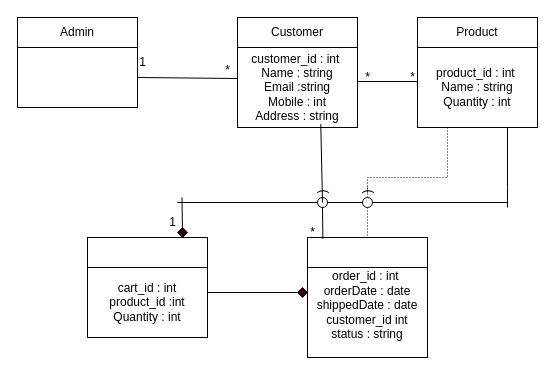
This 555x375 diagram has some shape labels left out. Here are the shapes that lost their labels. From the top down, the centre of each, then its label:
At [77,77]: "admin_id : int admin_pass : string".
At [147,252]: "Cart".
At [367,252]: "Order".
